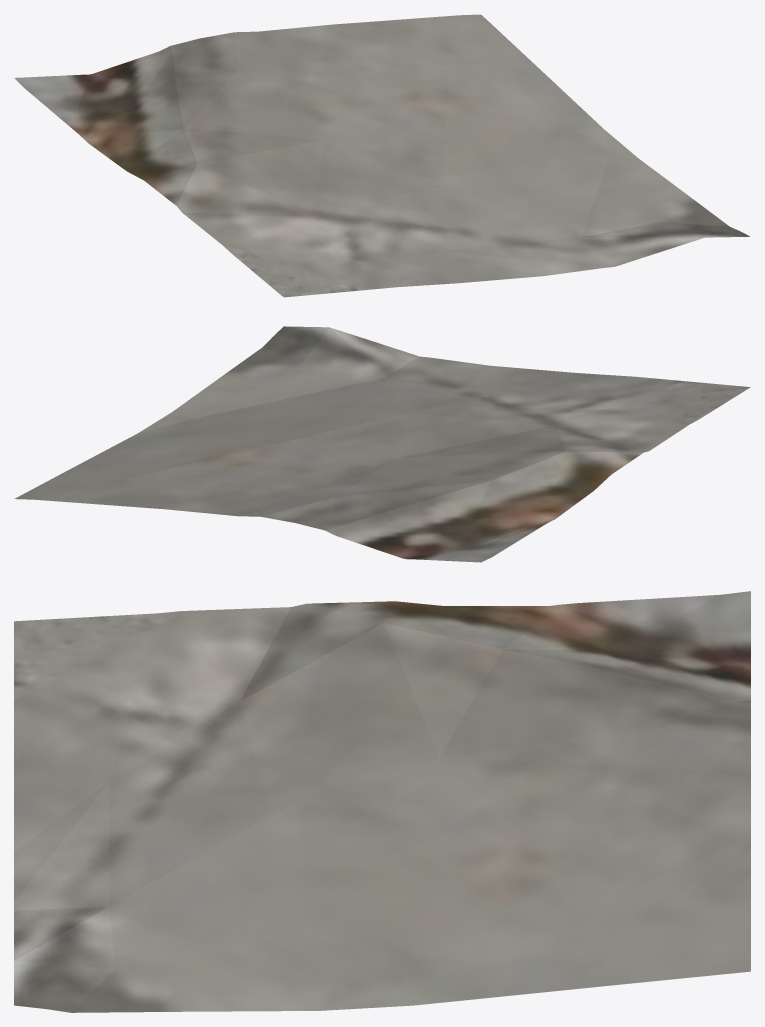
The picture shows the model from 3 angles, top to bottom: view 1: azimuth 30°, elevation 25°; view 2: azimuth 150°, elevation 25°; view 3: azimuth 270°, elevation 25°; orthographic projection. The views are drawn at different scales.
Size of the model in its own units: 0.8374 by 0.1393 by 0.8373.
Materials: 3 (3 with a texture image).
